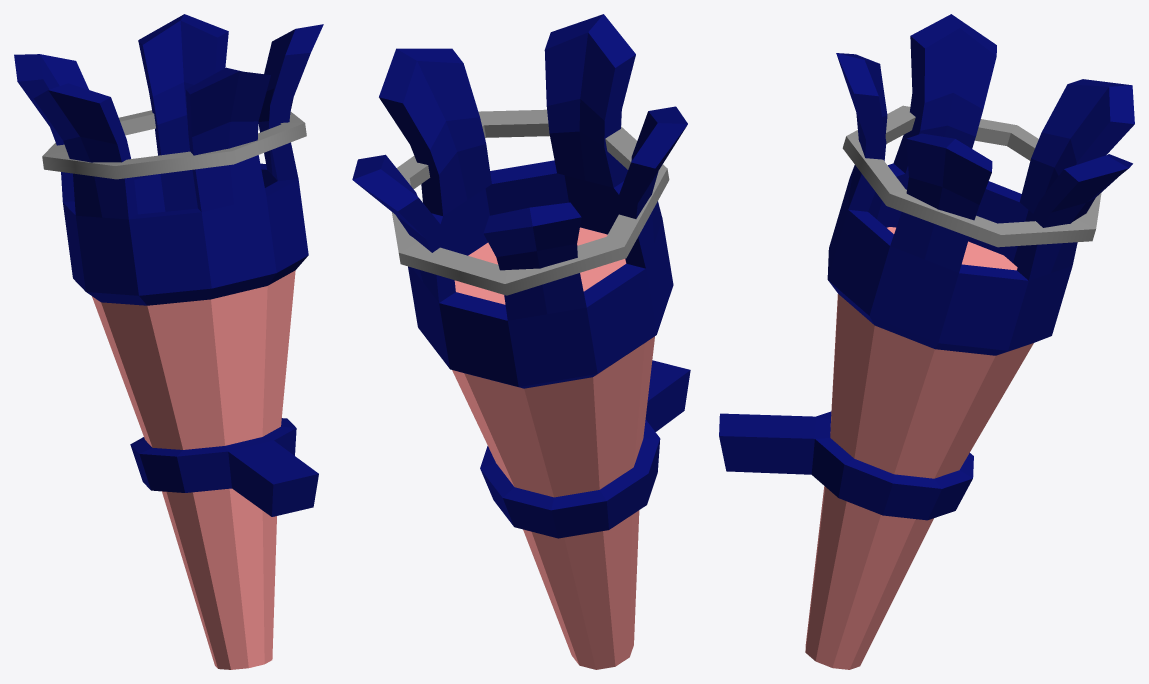
The model's file is Lantern2.FBX.
The picture shows the model from 3 angles, left to right: view 1: azimuth 30°, elevation 25°; view 2: azimuth 150°, elevation 25°; view 3: azimuth 270°, elevation 25°; orthographic projection. The views are drawn at different scales.
Visible parts, largest first — view 1: Cone005, Cylinder005; view 2: Cone005, Cylinder005; view 3: Cone005, Cylinder005.
Boxes of the visible parts, x1,y1,x2,y2 form: Cone005: [14, 14, 323, 669]; Cylinder005: [42, 110, 306, 179]; Cone005: [352, 14, 690, 669]; Cylinder005: [392, 109, 669, 295]; Cone005: [719, 14, 1134, 669]; Cylinder005: [842, 105, 1101, 247].
Bounding box in the file's own units: 31.95 × 41.42 × 66.82.
